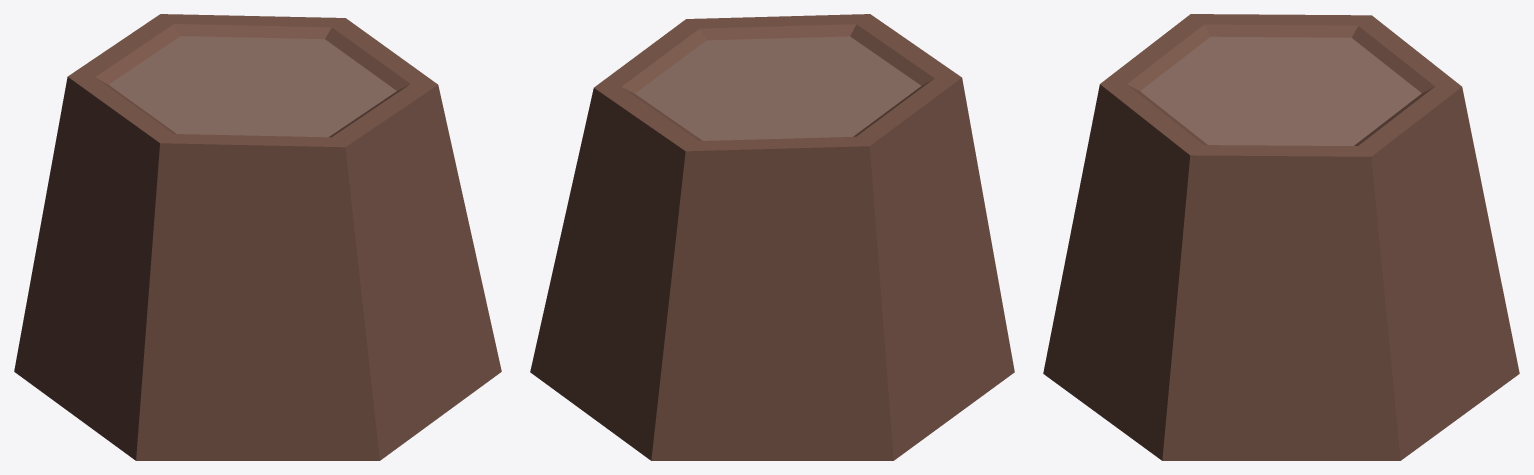
The model's file is Pine_Tree_Stump.fbx.
3 views of the same model, side by side, from view 1: azimuth 30°, elevation 25°; view 2: azimuth 150°, elevation 25°; view 3: azimuth 270°, elevation 25° (orthographic). The views are drawn at different scales.
Parts seen in each view (by area): view 1: Pine_Tree_Stump; view 2: Pine_Tree_Stump; view 3: Pine_Tree_Stump.
Part boxes in pixels (left/top/right/bottom): Pine_Tree_Stump: left=14, top=14, right=501, bottom=460; Pine_Tree_Stump: left=530, top=14, right=1014, bottom=460; Pine_Tree_Stump: left=1043, top=14, right=1519, bottom=460.
Bounding box in the file's own units: 123 × 96.01 × 143.
Materials: 1 (1 with a texture image).
